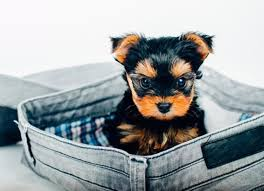dog: (94, 26, 238, 129)
